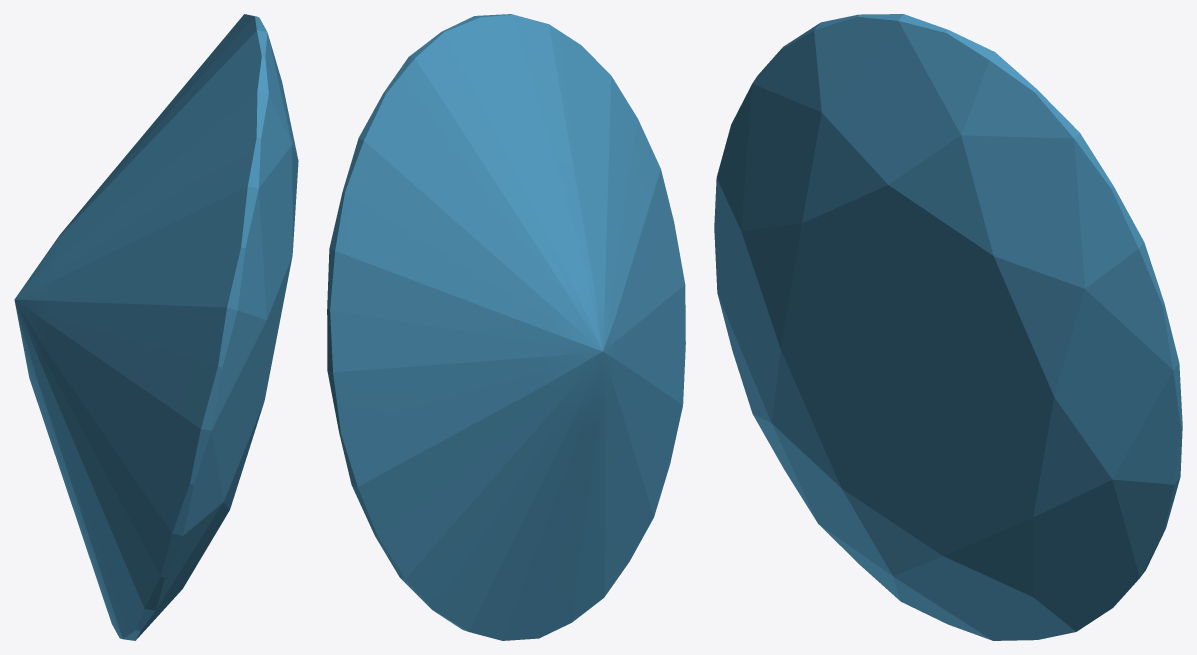
Rendered from TR4_8shapes_Oval_Classic_Stone.001 2.glb.
3 views of the same model, side by side, from view 1: azimuth 30°, elevation 25°; view 2: azimuth 150°, elevation 25°; view 3: azimuth 270°, elevation 25° (orthographic). The views are drawn at different scales.
Parts seen in each view (by area): view 1: TR4_8shapes_Oval_Classic_Stone.001; view 2: TR4_8shapes_Oval_Classic_Stone.001; view 3: TR4_8shapes_Oval_Classic_Stone.001.
Boxes of the visible parts, bbox=[...] form: TR4_8shapes_Oval_Classic_Stone.001: bbox=[14, 14, 298, 640]; TR4_8shapes_Oval_Classic_Stone.001: bbox=[327, 14, 685, 640]; TR4_8shapes_Oval_Classic_Stone.001: bbox=[714, 14, 1182, 640].
Size of the model in its own units: 0.2522 by 0.5765 by 0.3604.
